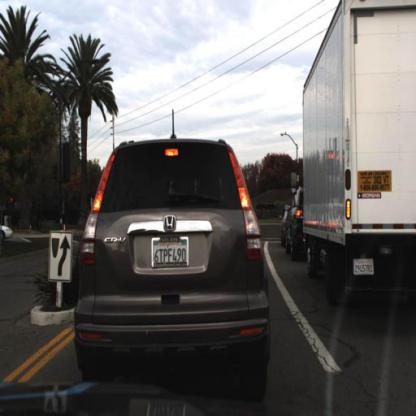car: (78, 136, 270, 391), (285, 187, 310, 256), (277, 193, 295, 251), (2, 221, 15, 244)
truck: (300, 1, 416, 304)
